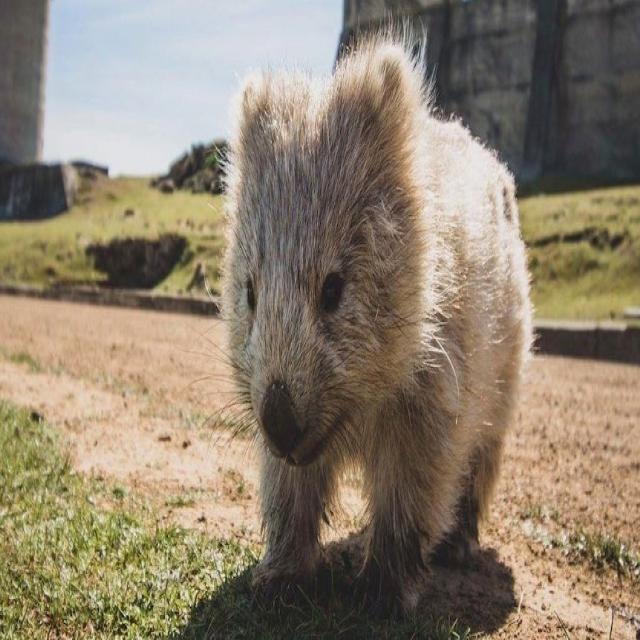wombats: (221, 30, 533, 604)
